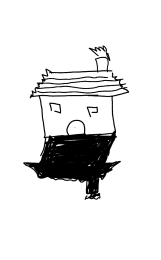door: (62, 118, 90, 138)
open_window: (47, 100, 65, 117), (83, 103, 102, 116)
roof: (25, 68, 131, 98)
shadow: (22, 131, 124, 202)
small_house: (2, 1, 161, 260)
smoking_chimney: (86, 42, 115, 76)
wall: (36, 94, 120, 138)
